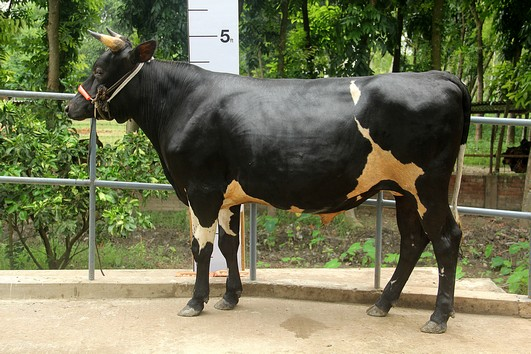cow: (62, 13, 476, 336)
